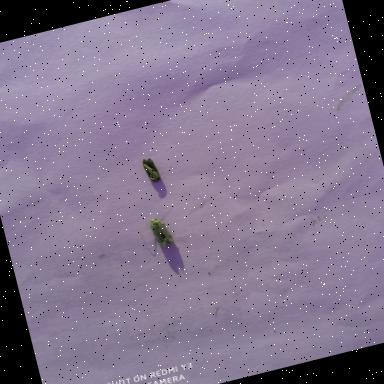pbw: (134, 204, 186, 260), (125, 146, 176, 193)
